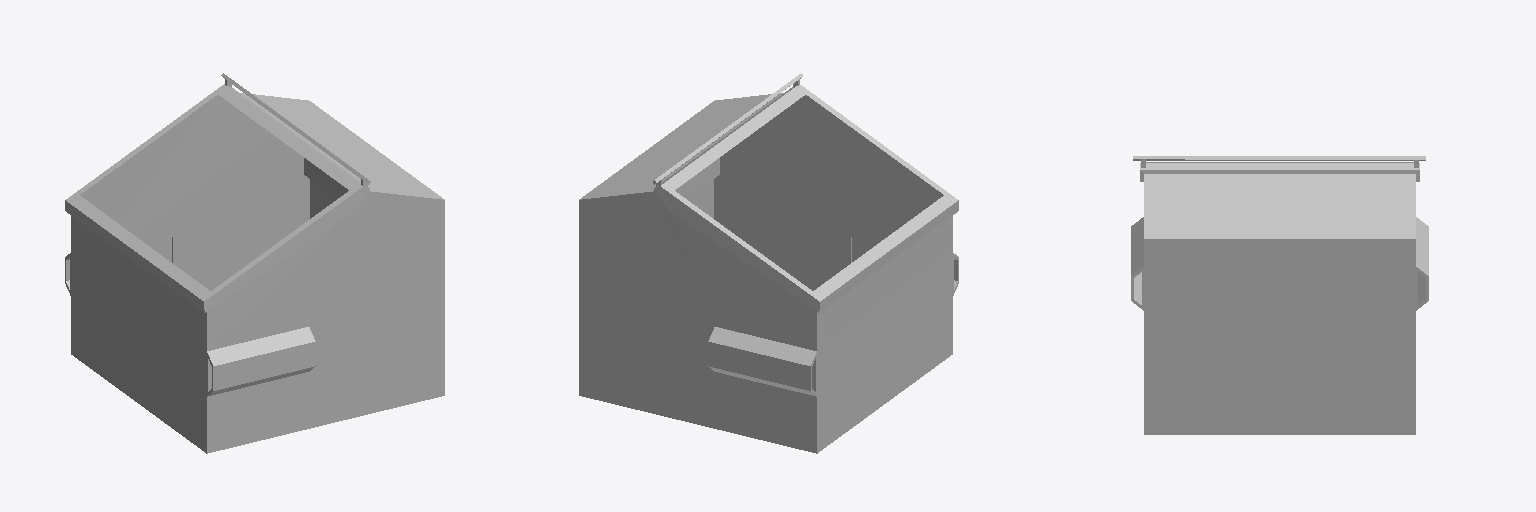
The model's file is Dumpster.obj.
The picture shows the model from 3 angles: view 1: azimuth 30°, elevation 25°; view 2: azimuth 150°, elevation 25°; view 3: azimuth 270°, elevation 25°; orthographic projection.
Visible parts, largest first — view 1: Dumpster_Dumpster.001; view 2: Dumpster_Dumpster.001; view 3: Dumpster_Dumpster.001.
Part boxes in pixels (bbox=[...]): Dumpster_Dumpster.001: bbox=[65, 73, 444, 453]; Dumpster_Dumpster.001: bbox=[579, 73, 958, 453]; Dumpster_Dumpster.001: bbox=[1131, 156, 1428, 434].
Bounding box in the file's own units: 1.86 × 1.75 × 1.98.